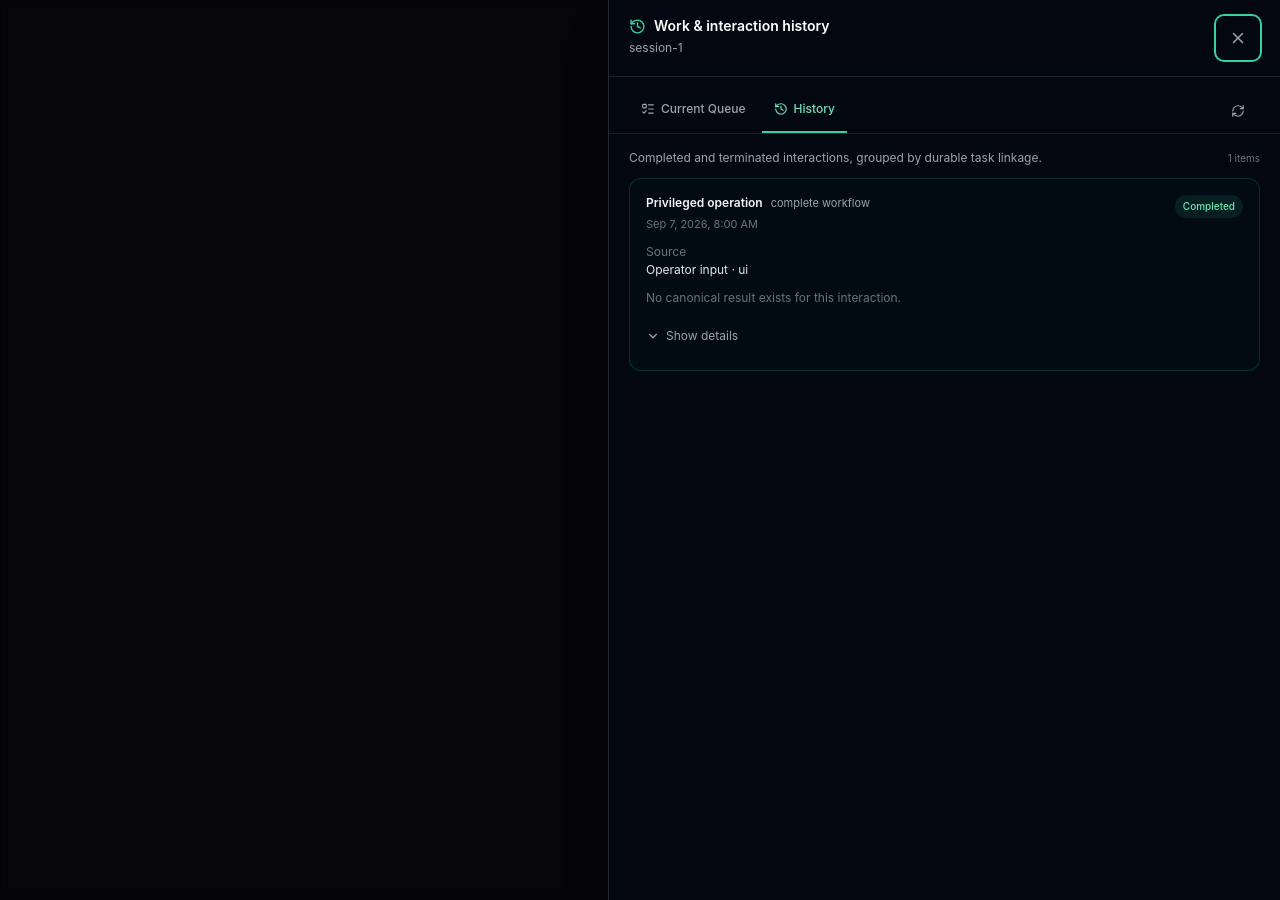
Test case: InteractionHistoryDrawer › shows the durable outcome of a reconciled privileged operation
Click the button "Show details": (692,336) left=646, top=318, right=738, bottom=354
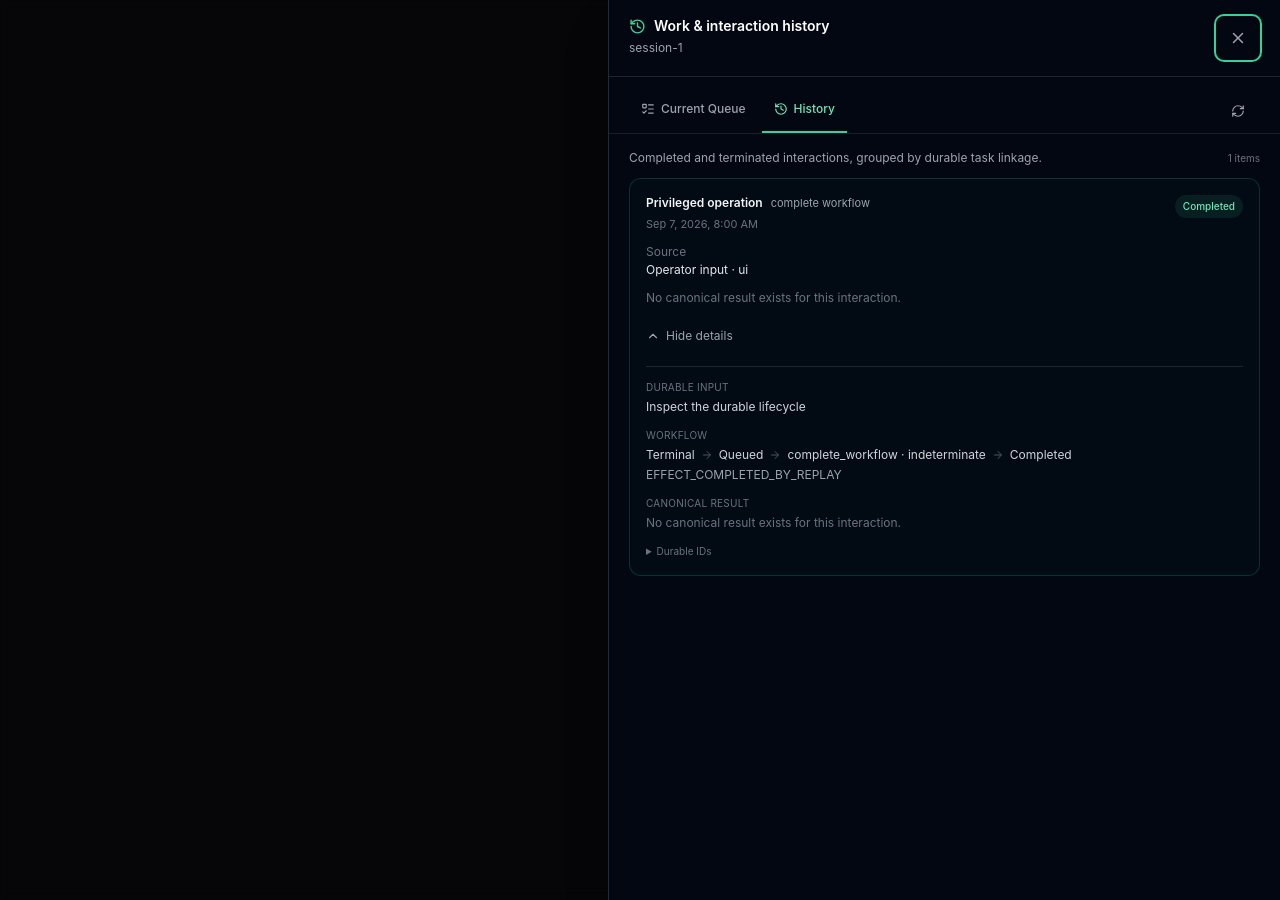
Expected: the text "Completed" in the row of "complete workflow" is shown, left=1183, top=200, right=1235, bottom=212
Expected: the text "EFFECT_COMPLETED_BY_REPLAY" is shown, left=646, top=467, right=842, bottom=482
